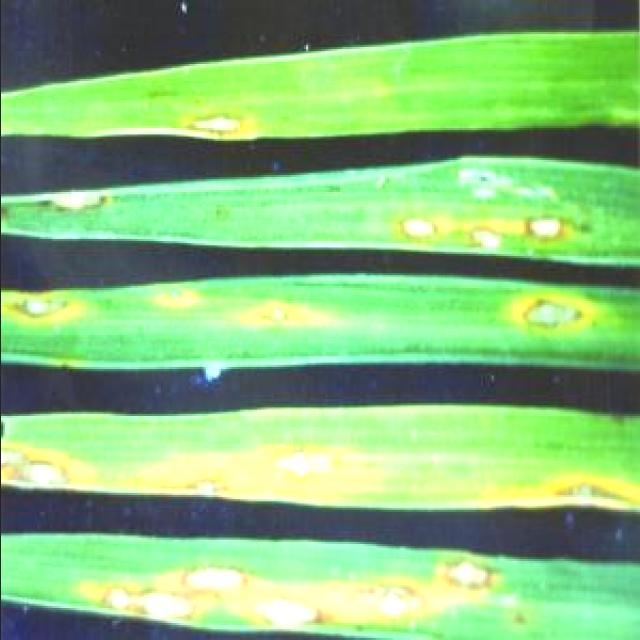Brown_Spot: (93, 564, 547, 631), (390, 207, 598, 247), (242, 431, 382, 481)
